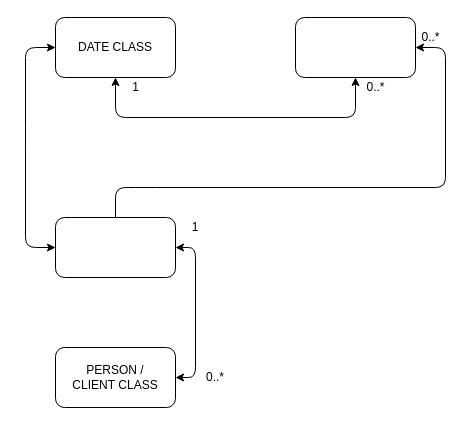
This 471x425 diagram has some shape labels left out. Each missing label, with the box of its shape:
COUPLE CLASS: (54, 216, 176, 278)
EVENT CLASS: (294, 16, 416, 78)
